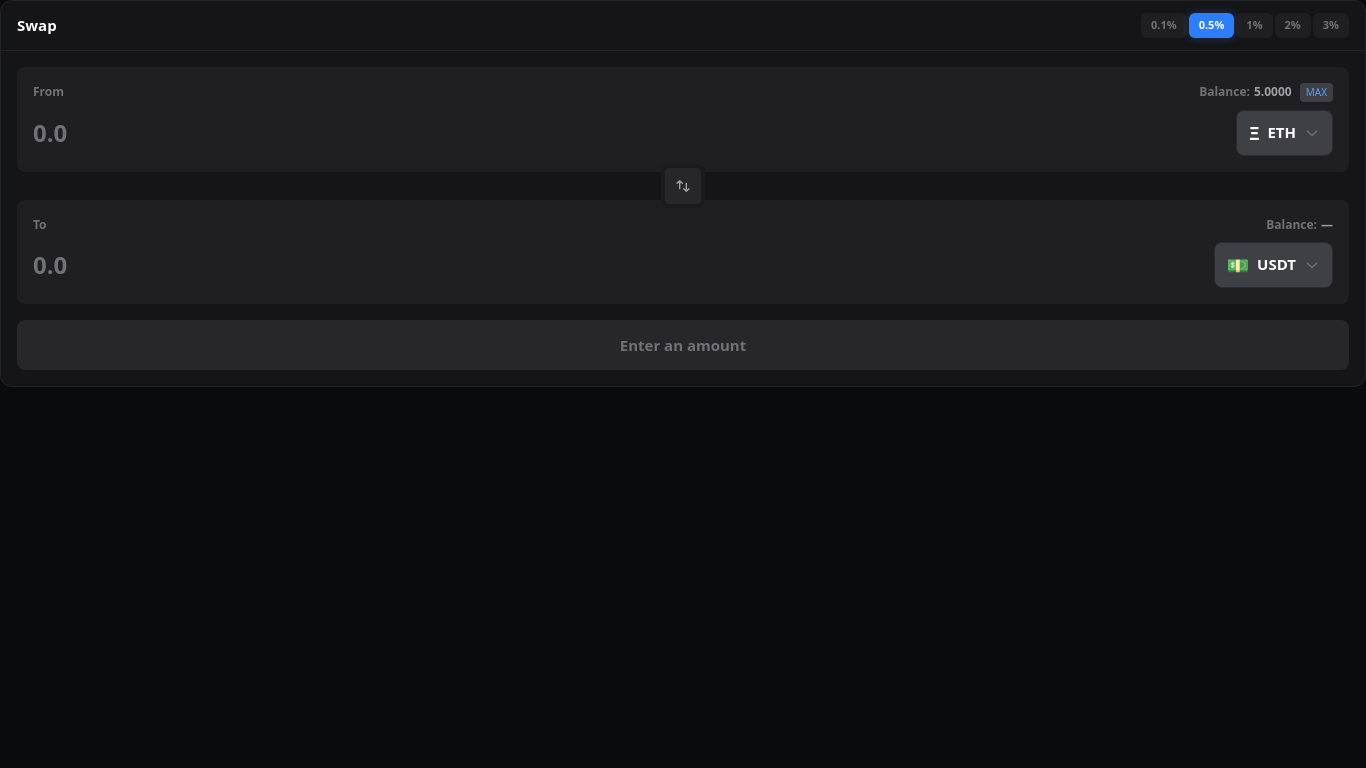
Test: SwapInterface › amount input › fills max amount minus gas reserve when MAX clicked
The image size is (1366, 768).
Click the button "MAX".
click(1316, 92)  # box x1=1300 y1=82 x2=1333 y2=102
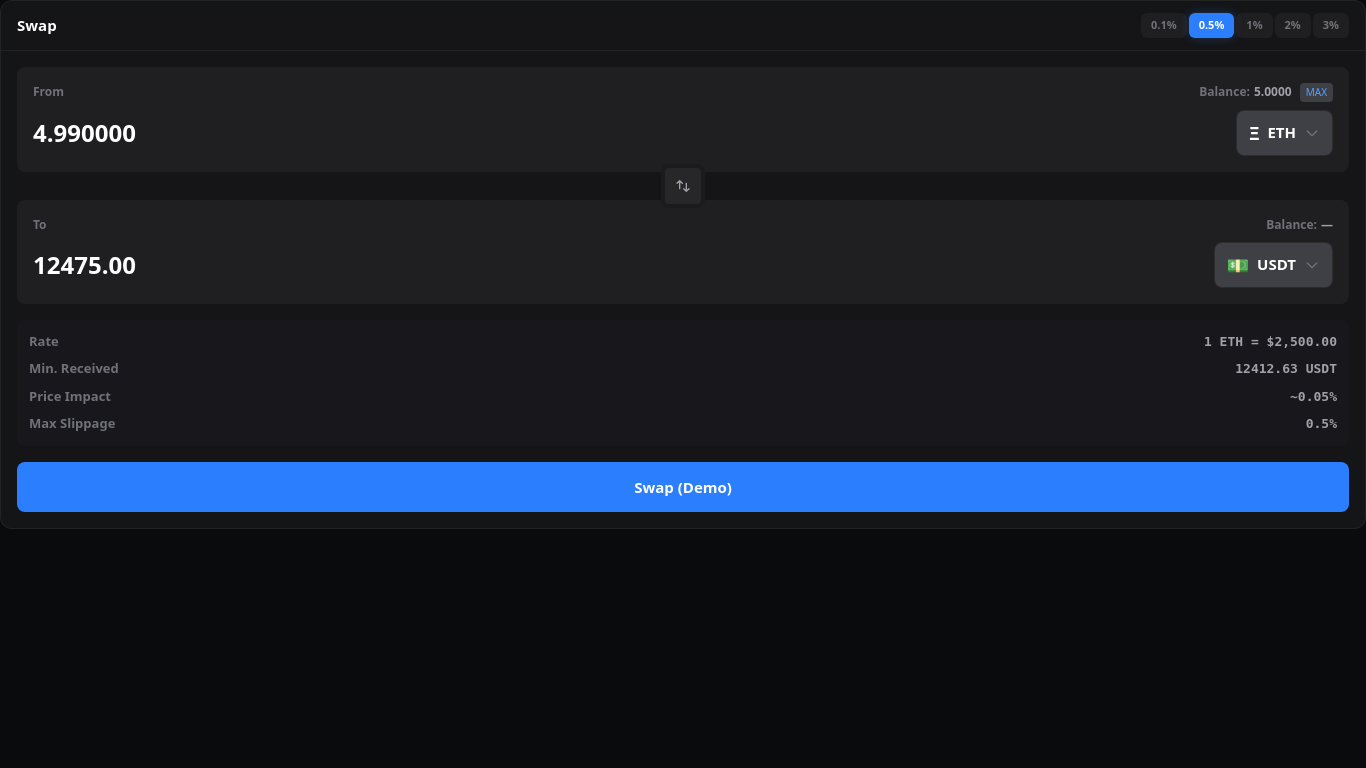
Now the field with placeholder "0.0" below "From" holds "4.990000", box x1=33 y1=116 x2=1224 y2=148
